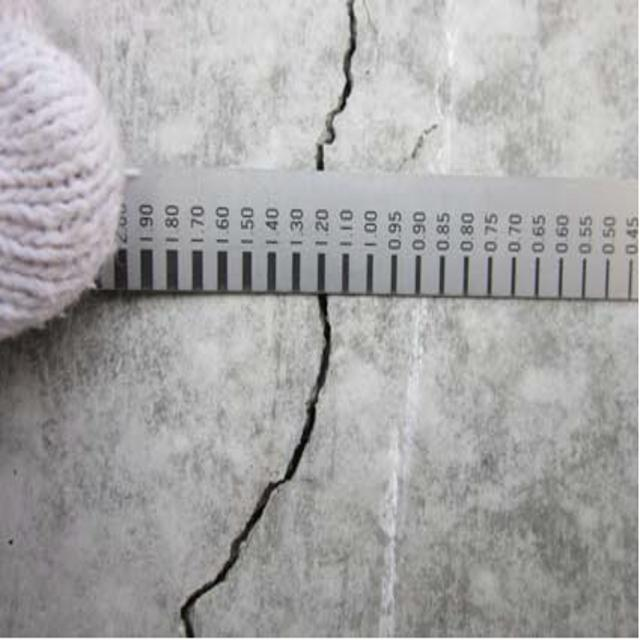crack: (157, 297, 340, 637), (312, 4, 388, 203)
